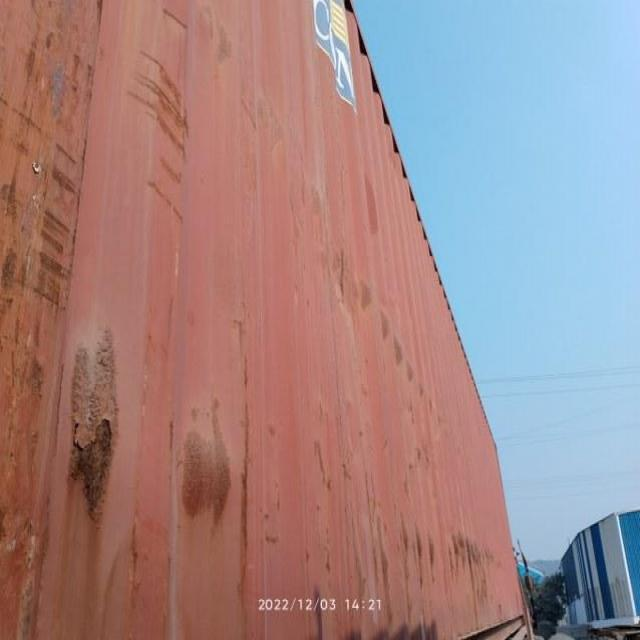Rust: (68, 372, 115, 519)
